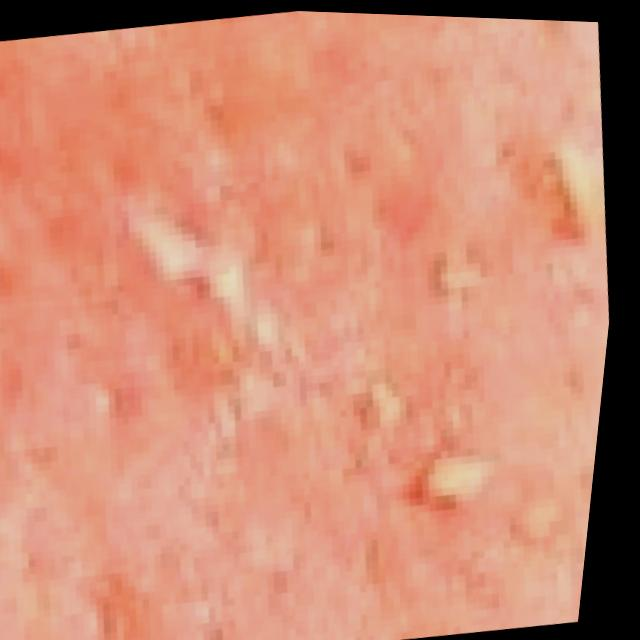whitehead: (230, 71, 616, 587)
